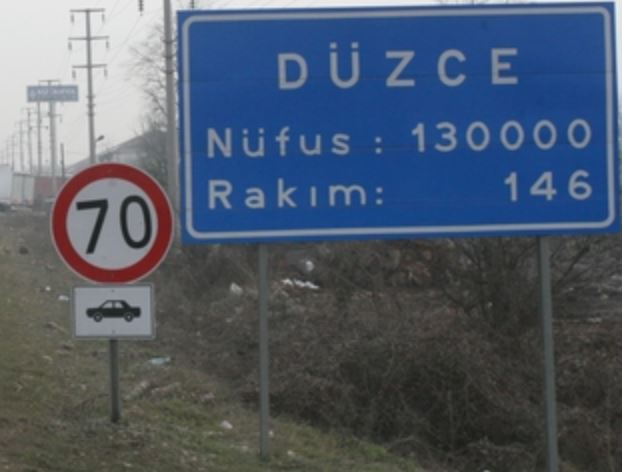70 Km Hiz Siniri: (42, 152, 181, 285)
